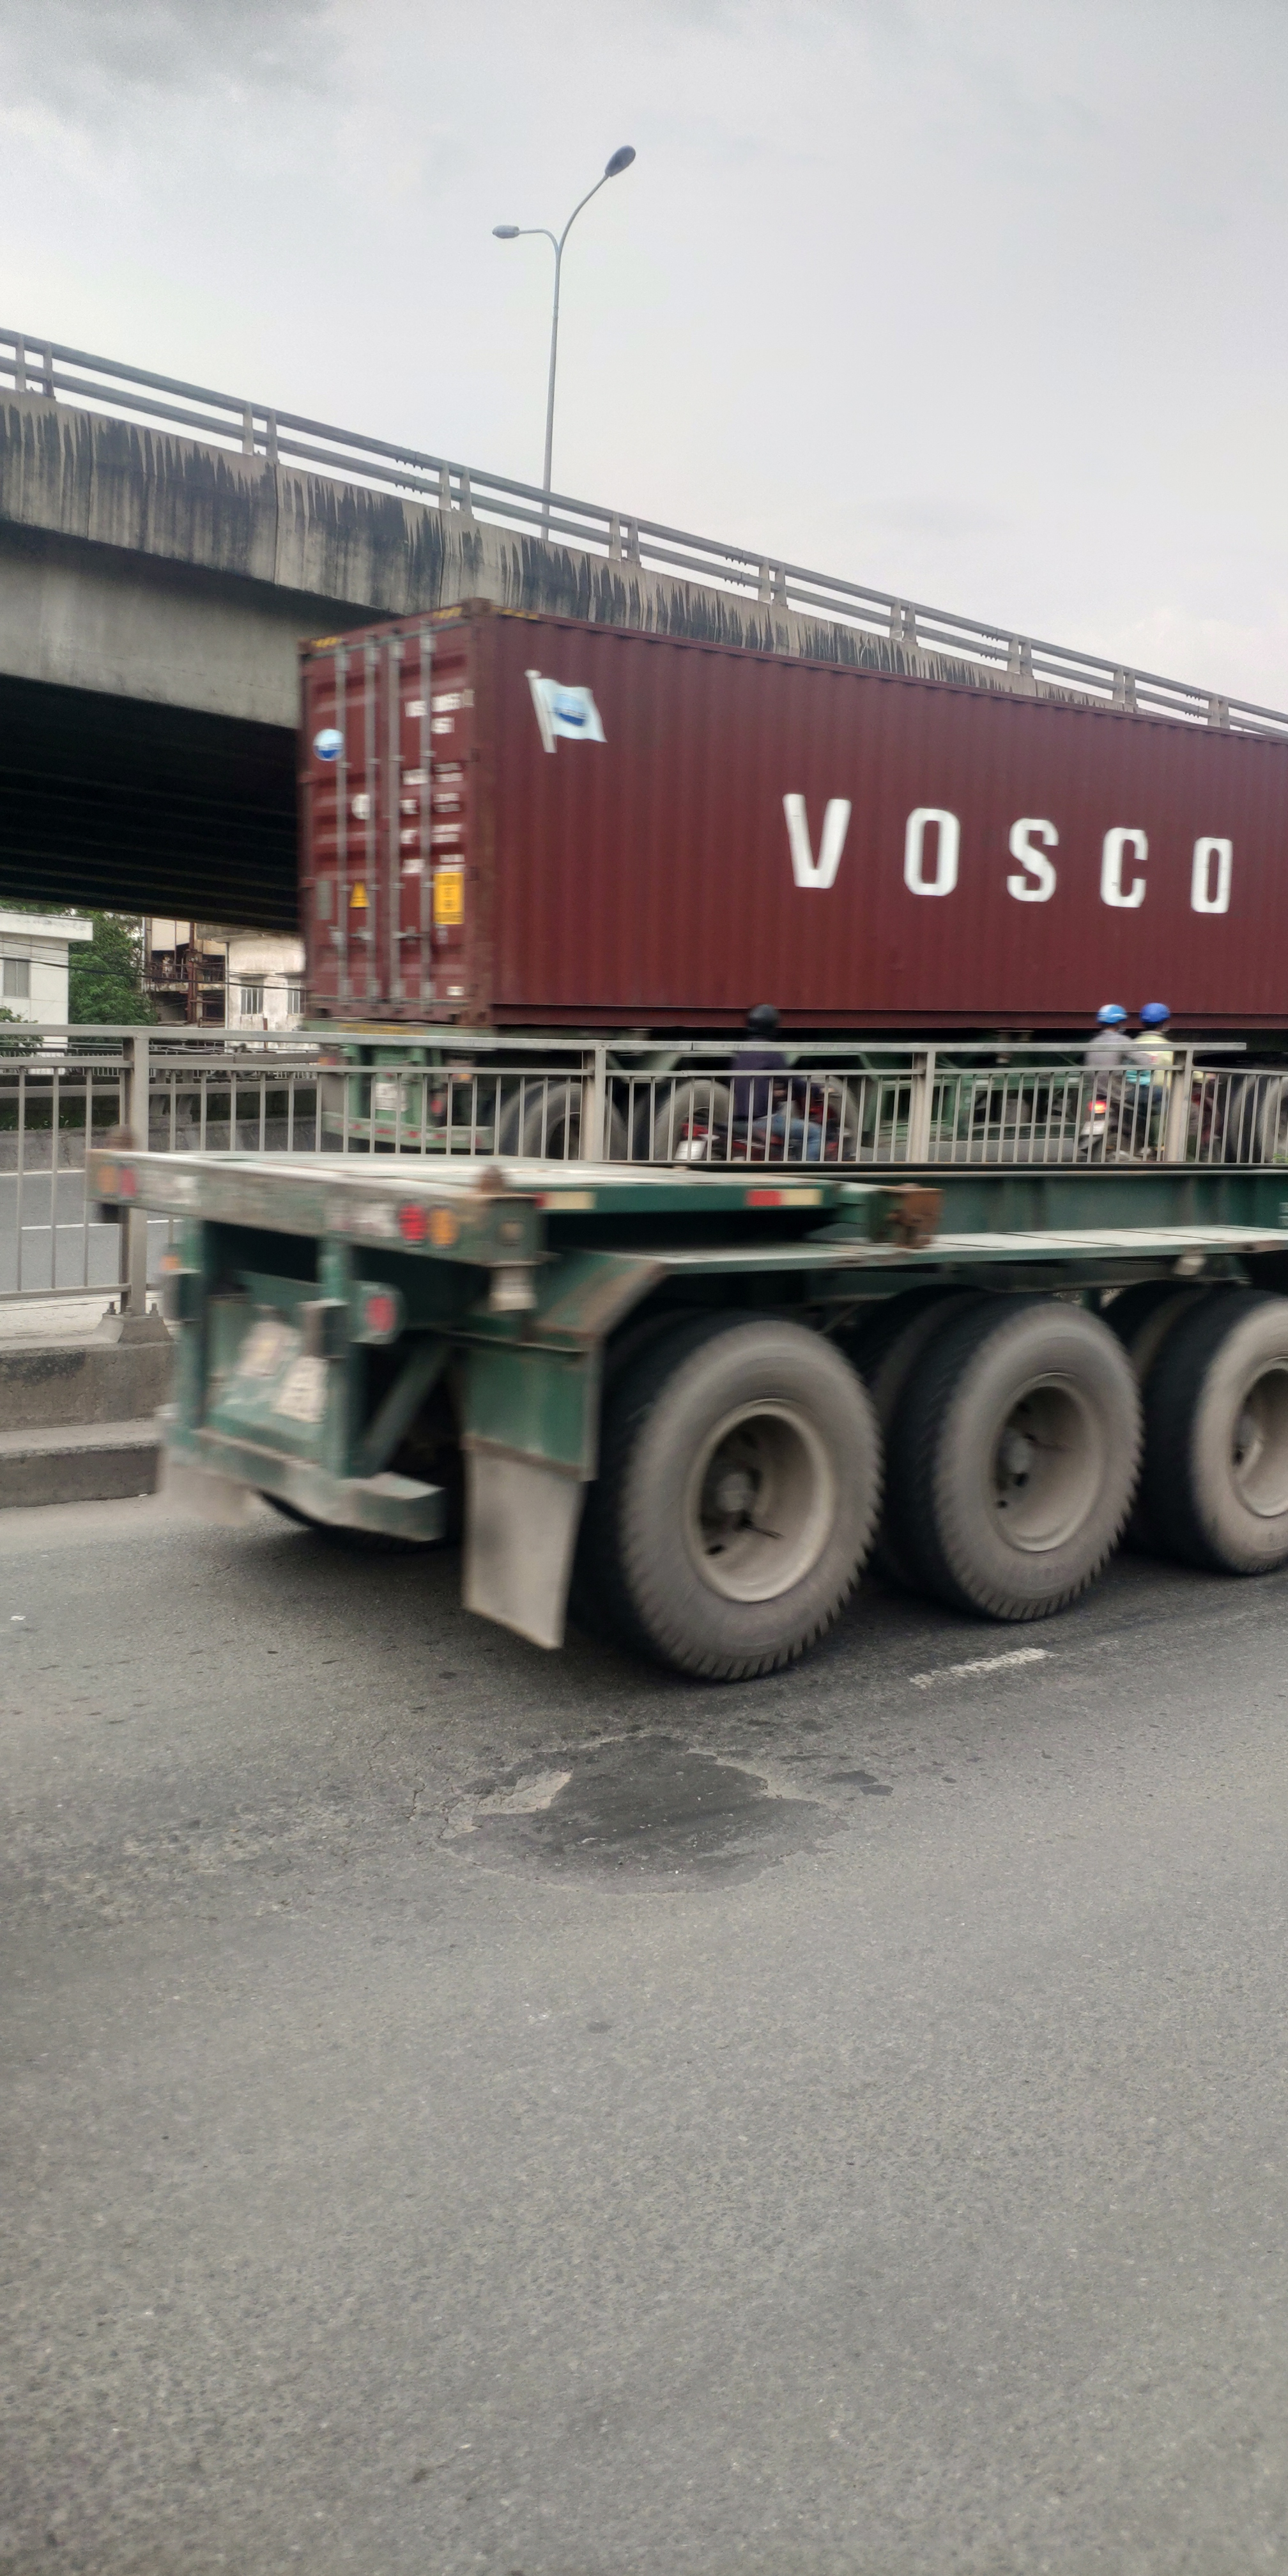hole: (444, 1738, 862, 1904)
